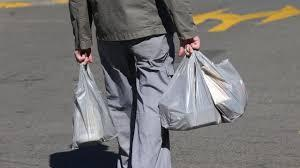Plastic bag: (159, 49, 262, 142), (58, 51, 124, 158)
